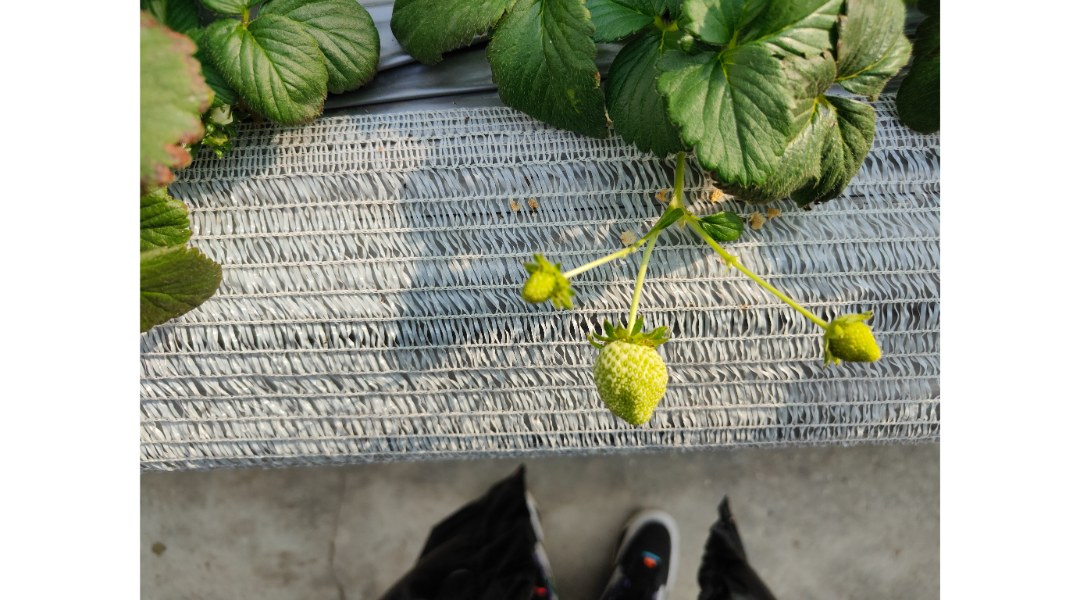berry: (586, 316, 677, 443), (803, 302, 889, 376), (515, 256, 578, 313)
strain: (698, 235, 829, 335), (561, 215, 668, 280), (613, 275, 649, 358)
